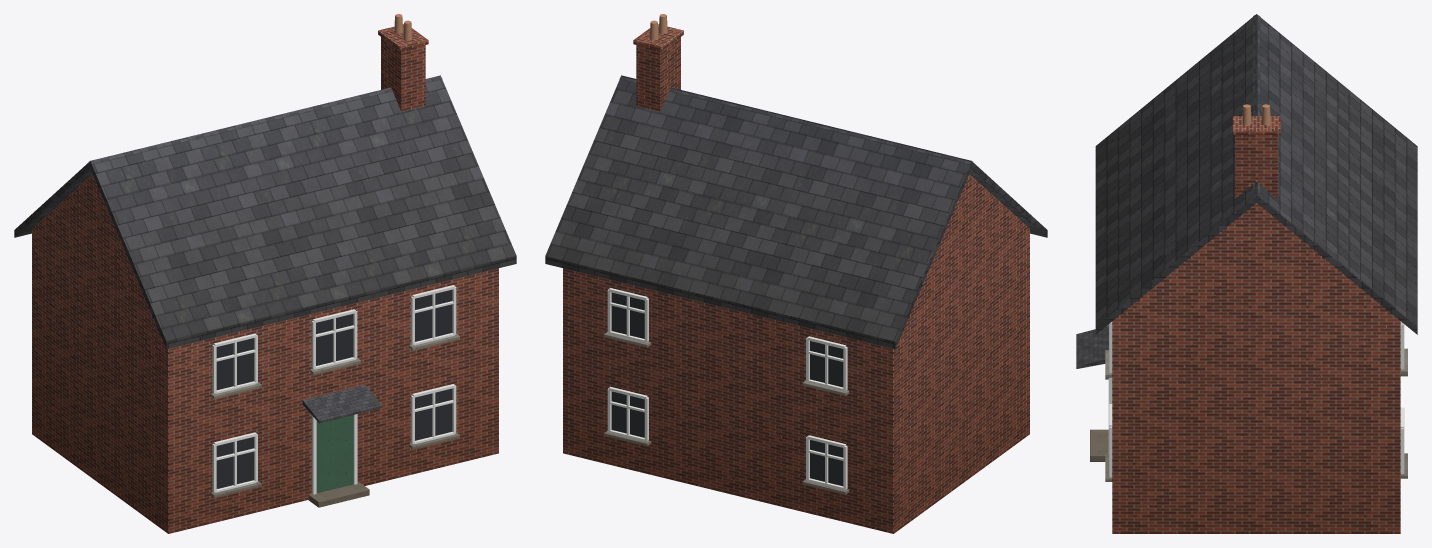
File: prop_house_cottage.glb
The picture shows the model from 3 angles, left to right: view 1: azimuth 30°, elevation 25°; view 2: azimuth 150°, elevation 25°; view 3: azimuth 270°, elevation 25°; orthographic projection. The views are drawn at different scales.
Visible parts, largest first — view 1: Walls, Roof, Glass, Frames, Chimney, Door, Sills, Canopy, Ridge; view 2: Walls, Roof, Glass, Frames, Chimney, Ridge, Sills; view 3: Walls, Roof, Chimney, Frames, Canopy, Sills, Ridge.
Boxes of the visible parts, bbox=[...] form: Walls: bbox=[32, 174, 498, 533]; Roof: bbox=[14, 75, 516, 349]; Glass: bbox=[216, 290, 452, 488]; Frames: bbox=[212, 285, 456, 494]; Chimney: bbox=[378, 24, 428, 111]; Door: bbox=[316, 415, 353, 493]; Sills: bbox=[210, 334, 459, 507]; Canopy: bbox=[302, 385, 382, 423]; Ridge: bbox=[88, 77, 442, 168]; Walls: bbox=[563, 174, 1029, 533]; Roof: bbox=[545, 75, 1047, 349]; Glass: bbox=[611, 292, 843, 486]; Frames: bbox=[607, 288, 847, 489]; Chimney: bbox=[633, 24, 683, 111]; Ridge: bbox=[619, 77, 973, 168]; Sills: bbox=[604, 332, 849, 494]; Walls: bbox=[1112, 203, 1400, 533]; Roof: bbox=[1095, 14, 1417, 334]; Chimney: bbox=[1232, 116, 1280, 198]; Frames: bbox=[1108, 321, 1404, 477]; Canopy: bbox=[1076, 326, 1108, 368]; Sills: bbox=[1090, 324, 1407, 481]; Ridge: bbox=[1252, 15, 1260, 202].
Bounding box in the file's own units: 8.9 × 9.5 × 7.1.
8 materials, 5 textured.
